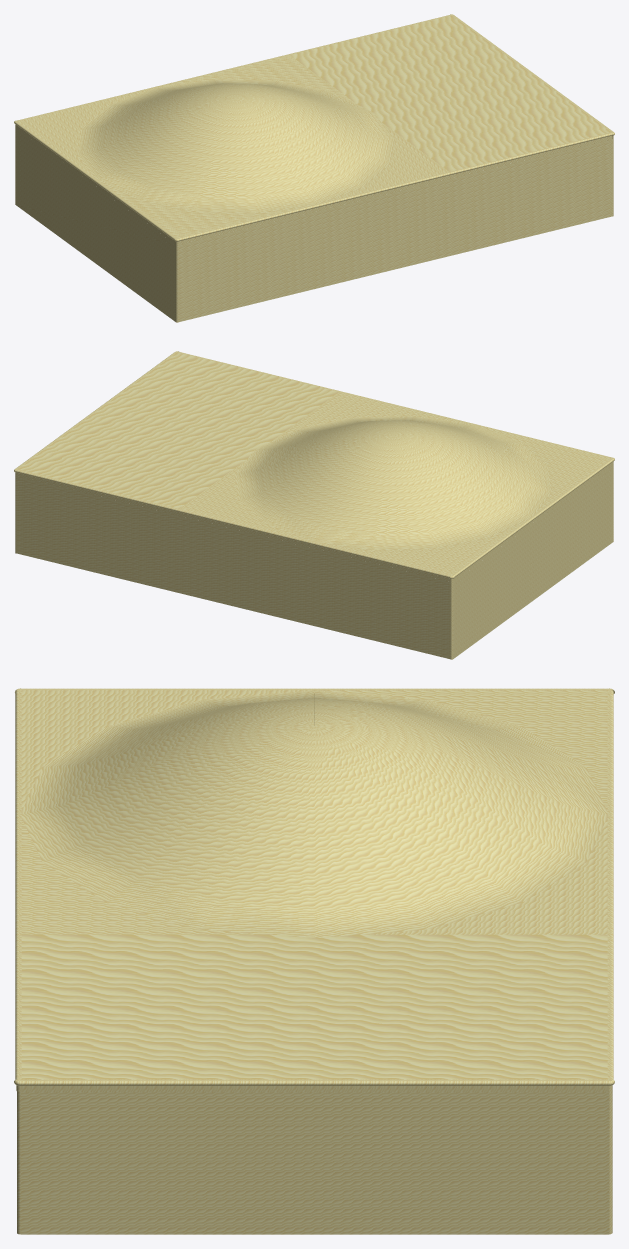
File: SandWorld.obj
3 views of the same model, one above another, from view 1: azimuth 30°, elevation 25°; view 2: azimuth 150°, elevation 25°; view 3: azimuth 270°, elevation 25° (orthographic). The views are drawn at different scales.
Parts seen in each view (by area): view 1: Dirt_Wall.095_Dirt_Wall.065, Grass.043_Grass.035, Grass.016_Grass.018, Dirt_Wall.088_Dirt_Wall.062, Grass.011_Grass.018, Grass.013_Grass.018, Grass.012_Grass.018, Dirt_Wall.096_Dirt_Wall.064, Dirt_Wall.087_Dirt_Wall.063, Dirt_Wall.089_Dirt_Wall.064, Dirt_Wall.057_Dirt_Wall.063; view 2: Dirt_Wall.090_Dirt_Wall.065, Grass.043_Grass.035, Grass.013_Grass.018, Dirt_Wall.088_Dirt_Wall.062, Grass.012_Grass.018, Grass.016_Grass.018, Grass.011_Grass.018, Dirt_Wall.089_Dirt_Wall.064, Dirt_Wall.087_Dirt_Wall.063, Dirt_Wall.096_Dirt_Wall.064, Dirt_Wall.057_Dirt_Wall.063; view 3: Grass.043_Grass.035, Dirt_Wall.037_Dirt_Wall.062, Grass.011_Grass.018, Grass.012_Grass.018, Grass.013_Grass.018, Grass.016_Grass.018, Dirt_Wall.057_Dirt_Wall.063, Dirt_Wall.089_Dirt_Wall.064, Dirt_Wall.096_Dirt_Wall.064, Dirt_Wall.087_Dirt_Wall.063.
Part boxes in pixels (<box>): Dirt_Wall.095_Dirt_Wall.065: <box>178,139,612,322</box>; Grass.043_Grass.035: <box>290,15,610,171</box>; Grass.016_Grass.018: <box>98,98,314,237</box>; Dirt_Wall.088_Dirt_Wall.062: <box>15,128,175,321</box>; Grass.011_Grass.018: <box>236,95,448,204</box>; Grass.013_Grass.018: <box>18,87,234,179</box>; Grass.012_Grass.018: <box>156,55,373,112</box>; Dirt_Wall.096_Dirt_Wall.064: <box>177,132,612,244</box>; Dirt_Wall.087_Dirt_Wall.063: <box>14,121,176,244</box>; Dirt_Wall.089_Dirt_Wall.064: <box>17,14,451,121</box>; Dirt_Wall.057_Dirt_Wall.063: <box>452,15,613,137</box>; Dirt_Wall.090_Dirt_Wall.065: <box>16,476,450,659</box>; Grass.043_Grass.035: <box>18,352,338,508</box>; Grass.013_Grass.018: <box>314,435,530,574</box>; Dirt_Wall.088_Dirt_Wall.062: <box>453,465,613,658</box>; Grass.012_Grass.018: <box>180,431,392,541</box>; Grass.016_Grass.018: <box>394,424,610,516</box>; Grass.011_Grass.018: <box>256,392,472,449</box>; Dirt_Wall.089_Dirt_Wall.064: <box>15,469,451,581</box>; Dirt_Wall.087_Dirt_Wall.063: <box>451,458,614,581</box>; Dirt_Wall.096_Dirt_Wall.064: <box>177,351,612,458</box>; Dirt_Wall.057_Dirt_Wall.063: <box>15,351,176,469</box>; Grass.043_Grass.035: <box>21,934,607,1079</box>; Dirt_Wall.037_Dirt_Wall.062: <box>20,1092,609,1234</box>; Grass.011_Grass.018: <box>21,725,314,938</box>; Grass.012_Grass.018: <box>314,725,607,938</box>; Grass.013_Grass.018: <box>314,690,607,814</box>; Grass.016_Grass.018: <box>21,690,314,813</box>; Dirt_Wall.057_Dirt_Wall.063: <box>20,1079,608,1092</box>; Dirt_Wall.089_Dirt_Wall.064: <box>607,690,613,1079</box>; Dirt_Wall.096_Dirt_Wall.064: <box>15,690,21,1079</box>; Dirt_Wall.087_Dirt_Wall.063: <box>21,688,609,699</box>.
Size of the model in its own units: 107 by 30.47 by 68.6.
8 materials, 8 textured.
